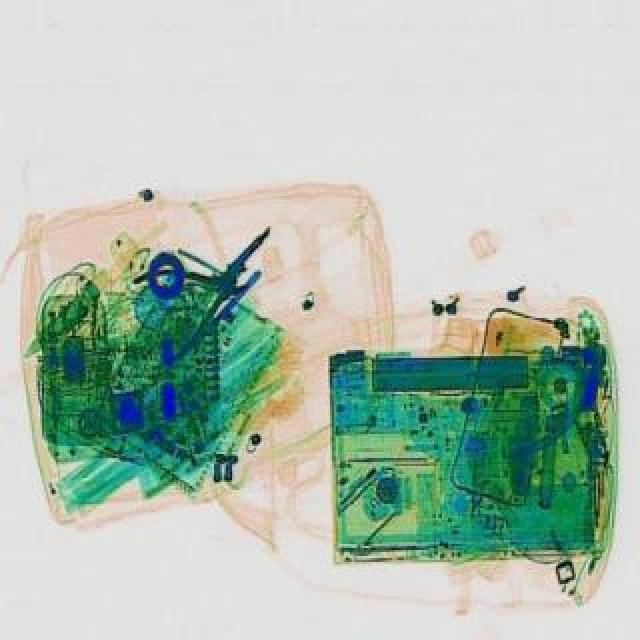wrench: (126, 240, 270, 362)
